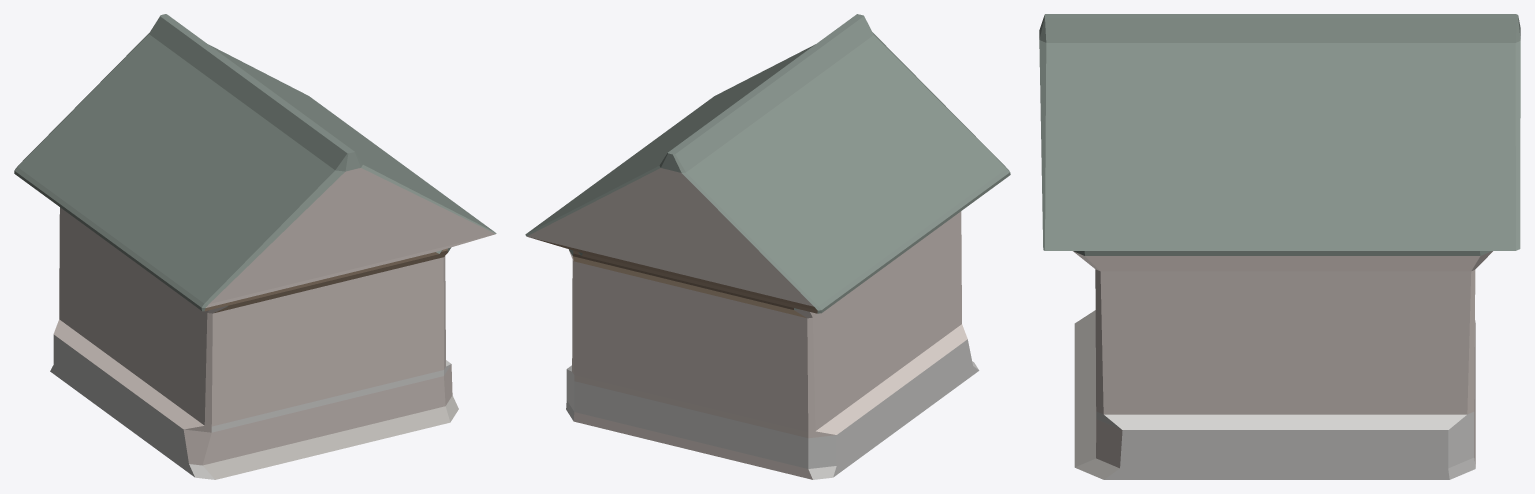
Rendered from loin.glb.
3 renders of one model, left to right at view 1: azimuth 30°, elevation 25°; view 2: azimuth 150°, elevation 25°; view 3: azimuth 270°, elevation 25°, orthographic. The views are drawn at different scales.
Parts seen in each view (by area): view 1: loin; view 2: loin; view 3: loin.
Boxes of the visible parts, x1=… form: loin: x1=14, y1=14, x2=496, y2=479; loin: x1=525, y1=14, x2=1010, y2=479; loin: x1=1039, y1=14, x2=1520, y2=479.
Bounding box in the file's own units: 0.6076 × 0.6026 × 0.6856.
